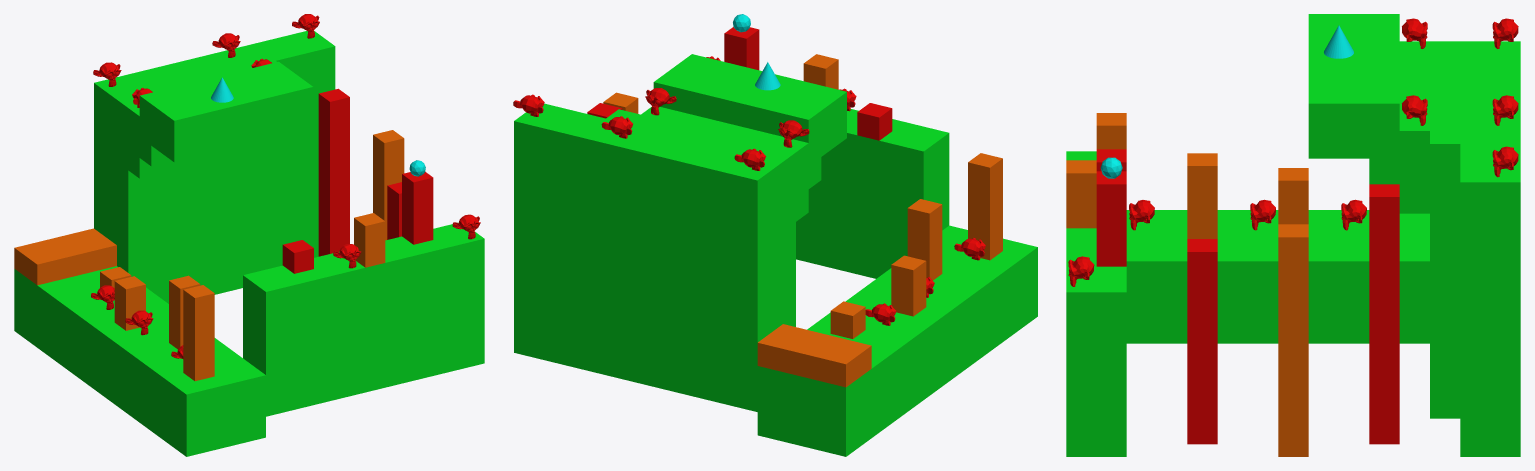
The picture shows the model from 3 angles, left to right: view 1: azimuth 30°, elevation 25°; view 2: azimuth 150°, elevation 25°; view 3: azimuth 270°, elevation 25°; orthographic projection. The views are drawn at different scales.
Visible parts, largest first — view 1: Cube.470, Cube.298, Cube.706, Cube.652, Cube.900, Cube.570, Cube.259, Cube.364, Cube.577, Cube.555, Cube.757, Cube.552 (+6 smaller); view 2: Cube.652, Cube.298, Cube.470, Cube.900, Cube.758, Cube.259, Cube.364, Cube.360, Cube.301, Cube.555, Cube.706, Cube.299 (+3 smaller); view 3: Cube.298, Cube.652, Cube.900, Cube.470, Cube.758, Cube.570, Cube.577, Cube.562, Cube.706, Cube.555, Cube.360, Cube.552 (+15 smaller).
Part boxes in pixels (left/top/right/bottom): Cube.470: left=243, top=222, right=484, bottom=416; Cube.298: left=14, top=266, right=265, bottom=456; Cube.706: left=117, top=135, right=287, bottom=303; Cube.652: left=94, top=31, right=335, bottom=257; Cube.900: left=139, top=61, right=313, bottom=162; Cube.570: left=318, top=88, right=349, bottom=256; Cube.259: left=14, top=228, right=116, bottom=285; Cube.364: left=183, top=285, right=214, bottom=381; Cube.577: left=373, top=130, right=404, bottom=240; Cube.555: left=402, top=172, right=433, bottom=244; Cube.757: left=117, top=137, right=278, bottom=178; Cube.552: left=354, top=213, right=385, bottom=267; Cube.652: left=514, top=103, right=782, bottom=411; Cube.298: left=757, top=225, right=1037, bottom=456; Cube.470: left=796, top=109, right=949, bottom=278; Cube.900: left=653, top=54, right=846, bottom=165; Cube.758: left=606, top=107, right=808, bottom=207; Cube.259: left=757, top=324, right=871, bottom=387; Cube.364: left=968, top=153, right=1002, bottom=260; Cube.360: left=907, top=199, right=942, bottom=280; Cube.301: left=891, top=255, right=926, bottom=316; Cube.555: left=724, top=27, right=759, bottom=70; Cube.706: left=783, top=222, right=795, bottom=326; Cube.299: left=830, top=301, right=865, bottom=338; Cube.298: left=1126, top=210, right=1429, bottom=343; Cube.652: left=1460, top=41, right=1520, bottom=456; Cube.900: left=1308, top=14, right=1399, bottom=158; Cube.470: left=1066, top=151, right=1126, bottom=456; Cube.758: left=1399, top=41, right=1460, bottom=198; Cube.570: left=1369, top=184, right=1399, bottom=444; Cube.577: left=1278, top=224, right=1308, bottom=456; Cube.562: left=1187, top=239, right=1217, bottom=444; Cube.706: left=1430, top=226, right=1460, bottom=418; Cube.555: left=1096, top=171, right=1126, bottom=266; Cube.360: left=1187, top=153, right=1217, bottom=238; Cube.552: left=1066, top=160, right=1096, bottom=228.
Bounding box in the file's own units: 3037 × 2600 × 3000.
